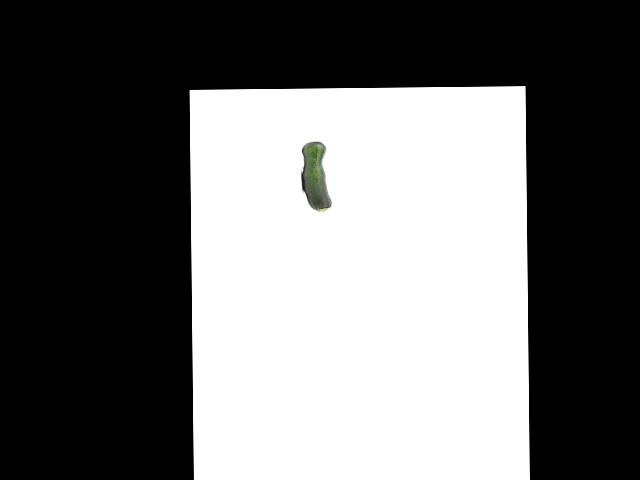cucumber: (301, 141, 331, 212)
